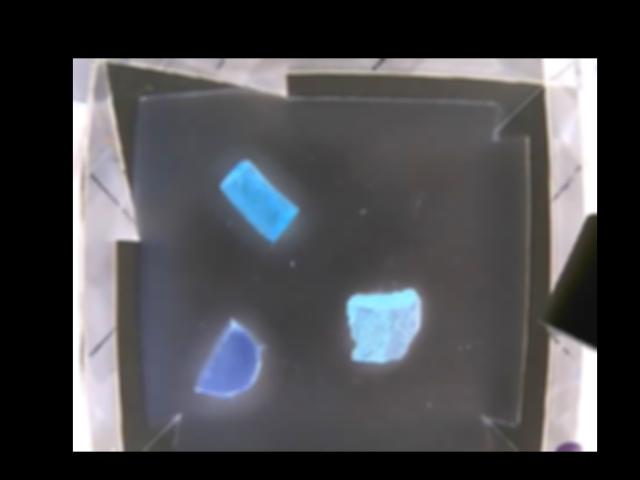Brisk: (346, 288, 421, 363)
Carrot: (217, 158, 300, 243)
Potato: (195, 319, 262, 395)
